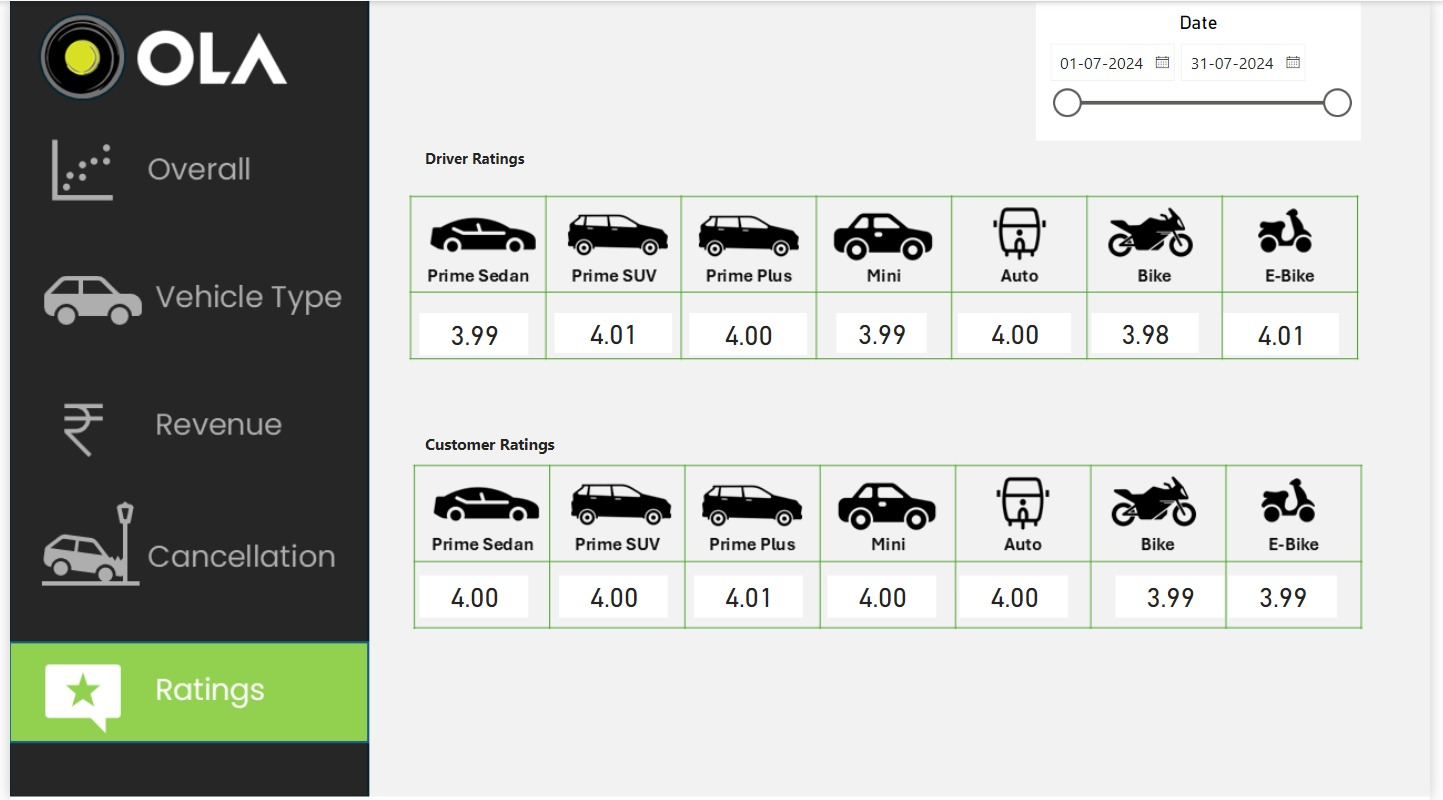

The page's visual inventory and layout, read from the dashboard file:
{"tool":"powerbi","page":{"name":"Rating","canvas":[1280,720],"ordinal":4},"visuals":[{"type":"actionButton","box":[0,225.7,323.1,93.3],"z":0},{"type":"actionButton","box":[0,235.2,323.1,93.3],"z":1000},{"type":"actionButton","box":[0,337.9,323.1,93.3],"z":2000},{"type":"actionButton","box":[0,454.2,323.1,93.3],"z":3000},{"type":"actionButton","box":[10,347.9,323.1,93.3],"z":4000},{"type":"card","fields":{"Values":["Avg(Bookings.Driver_Ratings)"]},"box":[368.5,281.6,98.3,37.8],"z":5000},{"type":"card","fields":{"Values":["Avg(Bookings.Driver_Ratings)"]},"box":[491.3,281.6,105.8,35.9],"z":6000},{"type":"card","fields":{"Values":["Avg(Bookings.Driver_Ratings)"]},"box":[612.3,281.6,105.8,37.8],"z":7000},{"type":"card","fields":{"Values":["Avg(Bookings.Driver_Ratings)"]},"box":[744.6,281.6,81.3,35.9],"z":8000},{"type":"card","fields":{"Values":["Avg(Bookings.Driver_Ratings)"]},"box":[854.2,281.6,102,35.9],"z":9000},{"type":"card","fields":{"Values":["Avg(Bookings.Driver_Ratings)"]},"box":[975.1,281.6,96.4,35.9],"z":10000},{"type":"card","fields":{"Values":["Avg(Bookings.Driver_Ratings)"]},"box":[1094.2,281.6,103.9,37.8],"z":11000},{"type":"textbox","box":[368.5,126.6,391.2,47.2],"z":12000},{"type":"textbox","box":[368.5,383.6,196.5,34],"z":13000},{"type":"card","fields":{"Values":["Avg(Bookings.Customer_Rating)"]},"box":[368.5,517.8,98.3,37.8],"z":14000},{"type":"card","fields":{"Values":["Avg(Bookings.Customer_Rating)"]},"box":[995.9,517.8,98.3,37.8],"z":15000},{"type":"card","fields":{"Values":["Avg(Bookings.Customer_Rating)"]},"box":[856.1,517.8,98.3,37.8],"z":16000},{"type":"card","fields":{"Values":["Avg(Bookings.Customer_Rating)"]},"box":[737,517.8,98.3,37.8],"z":17000},{"type":"card","fields":{"Values":["Avg(Bookings.Customer_Rating)"]},"box":[616.1,517.8,98.3,37.8],"z":18000},{"type":"card","fields":{"Values":["Avg(Bookings.Customer_Rating)"]},"box":[495.1,517.8,98.3,37.8],"z":19000},{"type":"card","fields":{"Values":["Avg(Bookings.Customer_Rating)"]},"box":[1098,517.8,98.3,37.8],"z":20000},{"type":"slicer","title":"Date","fields":{"Values":["Bookings.Date"]},"box":[924.1,1.9,292.9,124.7],"z":21000}]}

Visuals, with their boxes on the page's 1280x720 design canvas (x1, y1, x2, y2). These are canvas units, not pixel positions in the 1443x800 screenshot, which may show the page scaled, cropped or inside an application window:
actionButton: x1=0 y1=226 x2=323 y2=319
actionButton: x1=0 y1=235 x2=323 y2=328
actionButton: x1=0 y1=338 x2=323 y2=431
actionButton: x1=0 y1=454 x2=323 y2=548
actionButton: x1=10 y1=348 x2=333 y2=441
card - Avg(Bookings.Driver_Ratings): x1=368 y1=282 x2=467 y2=319
card - Avg(Bookings.Driver_Ratings): x1=491 y1=282 x2=597 y2=318
card - Avg(Bookings.Driver_Ratings): x1=612 y1=282 x2=718 y2=319
card - Avg(Bookings.Driver_Ratings): x1=745 y1=282 x2=826 y2=318
card - Avg(Bookings.Driver_Ratings): x1=854 y1=282 x2=956 y2=318
card - Avg(Bookings.Driver_Ratings): x1=975 y1=282 x2=1072 y2=318
card - Avg(Bookings.Driver_Ratings): x1=1094 y1=282 x2=1198 y2=319
textbox: x1=368 y1=127 x2=760 y2=174
textbox: x1=368 y1=384 x2=565 y2=418
card - Avg(Bookings.Customer_Rating): x1=368 y1=518 x2=467 y2=556
card - Avg(Bookings.Customer_Rating): x1=996 y1=518 x2=1094 y2=556
card - Avg(Bookings.Customer_Rating): x1=856 y1=518 x2=954 y2=556
card - Avg(Bookings.Customer_Rating): x1=737 y1=518 x2=835 y2=556
card - Avg(Bookings.Customer_Rating): x1=616 y1=518 x2=714 y2=556
card - Avg(Bookings.Customer_Rating): x1=495 y1=518 x2=593 y2=556
card - Avg(Bookings.Customer_Rating): x1=1098 y1=518 x2=1196 y2=556
"Date" slicer: x1=924 y1=2 x2=1217 y2=127
